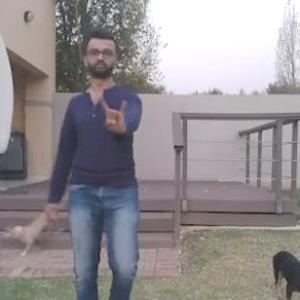takeoff-hand: (96, 87, 136, 141)
